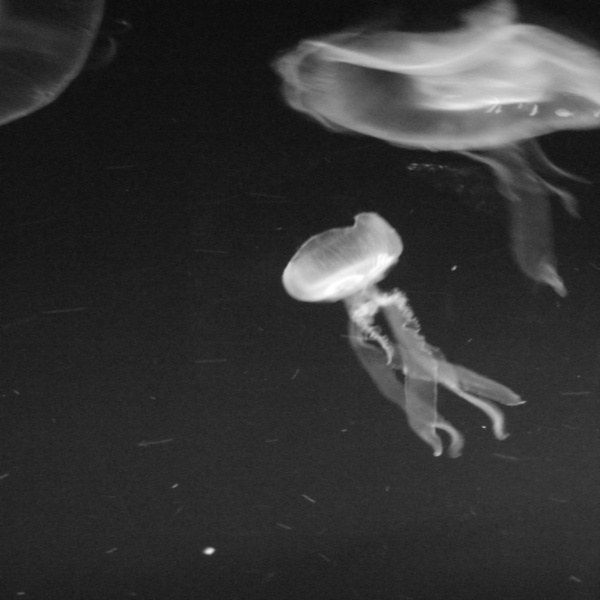Jellyfish: (280, 0, 598, 304), (280, 206, 530, 460)
